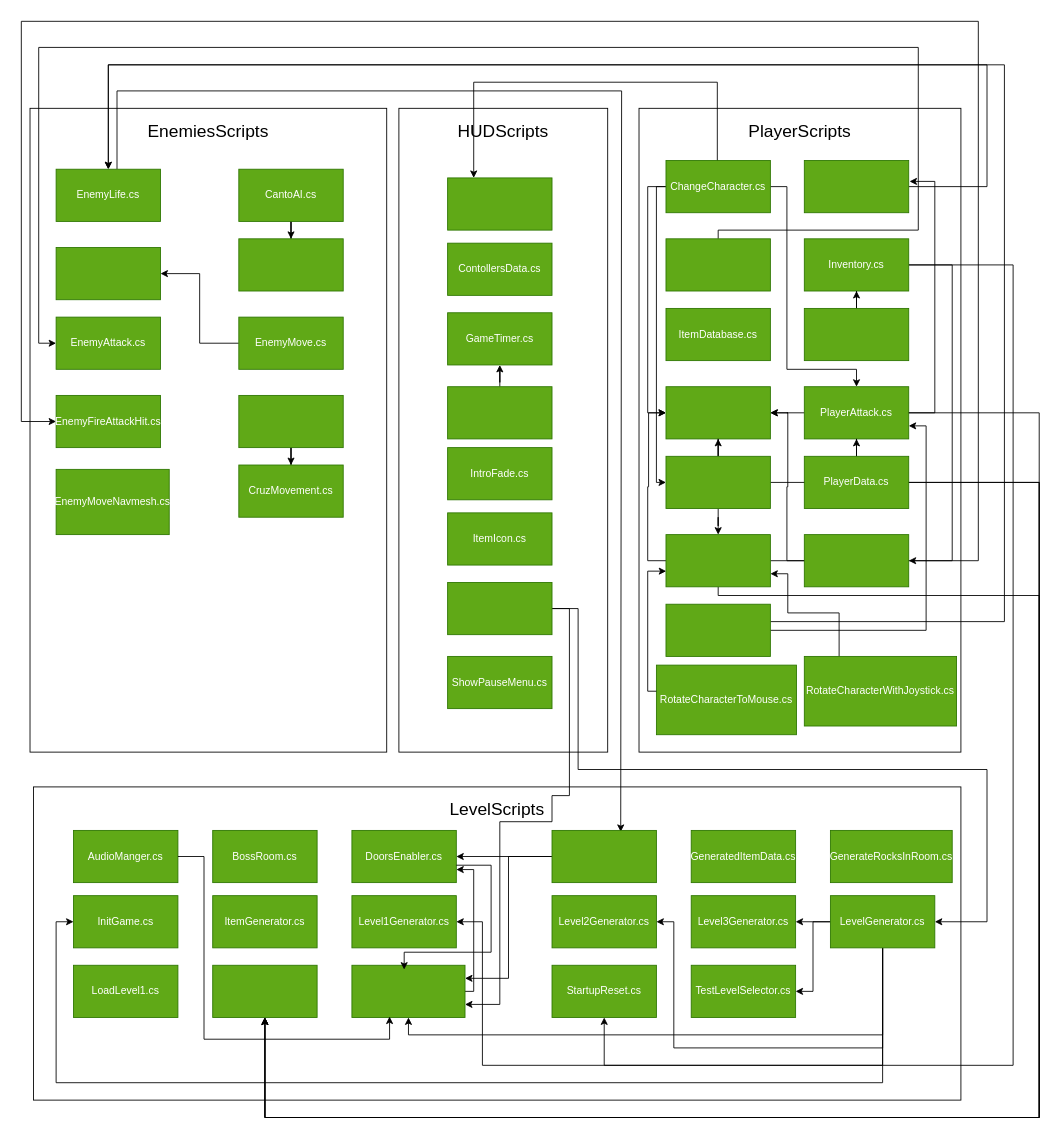
Some shapes in this 1061 by 1140 pixel diagram are drawn without their labels. The shapes that lost their labels are listed below. From the top down, each one's box as (x1, y1, x2, y2) in pixels, then its label:
(447, 177, 552, 230): RotateCoin.cs
(803, 160, 909, 213): FireAttackHit.cs
(55, 247, 161, 300): CaraAI.cs
(238, 238, 343, 291): CantoMovement.cs
(665, 238, 770, 291): FireballBehaviour.cs
(803, 308, 909, 361): InventoryItem
(238, 395, 343, 448): CruzAi.cs
(447, 386, 552, 439): TimerData
(665, 386, 770, 439): PickupItem.cs
(665, 455, 770, 509): PlayerBehaviour.cs
(665, 534, 770, 587): PlayerHealth.cs
(803, 534, 909, 587): PlayerInventory.cs
(447, 582, 552, 635): MinimapBehaviour.cs
(665, 603, 770, 656): MeleeAttackHit.cs
(551, 830, 656, 883): EnemiesGenerator.cs
(212, 964, 317, 1017): LoadNextLevel.cs
(351, 964, 465, 1017): NextRoomCalculator.cs
